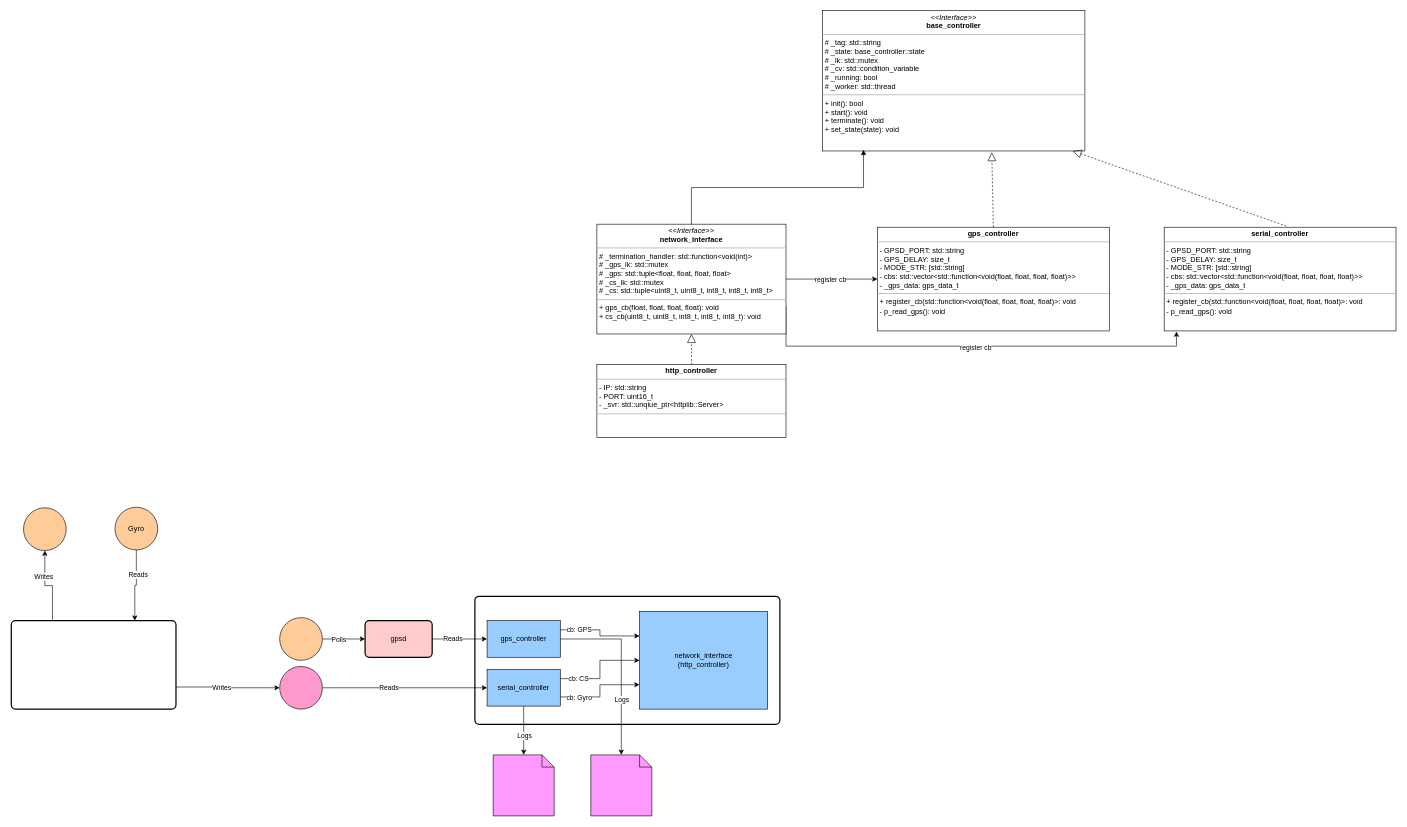
The diagram is 1407 pixels wide and 827 high, and some of its shapes have lost their labels. Here are the shapes that lost their labels. From the top down, the centre of each, then its label:
At (44,529): "Servos".
At (300,638): "GPS".
At (300,687): "Serial Port".
At (523,785): "MCU Logs".
At (621,785): "GPS Logs".
